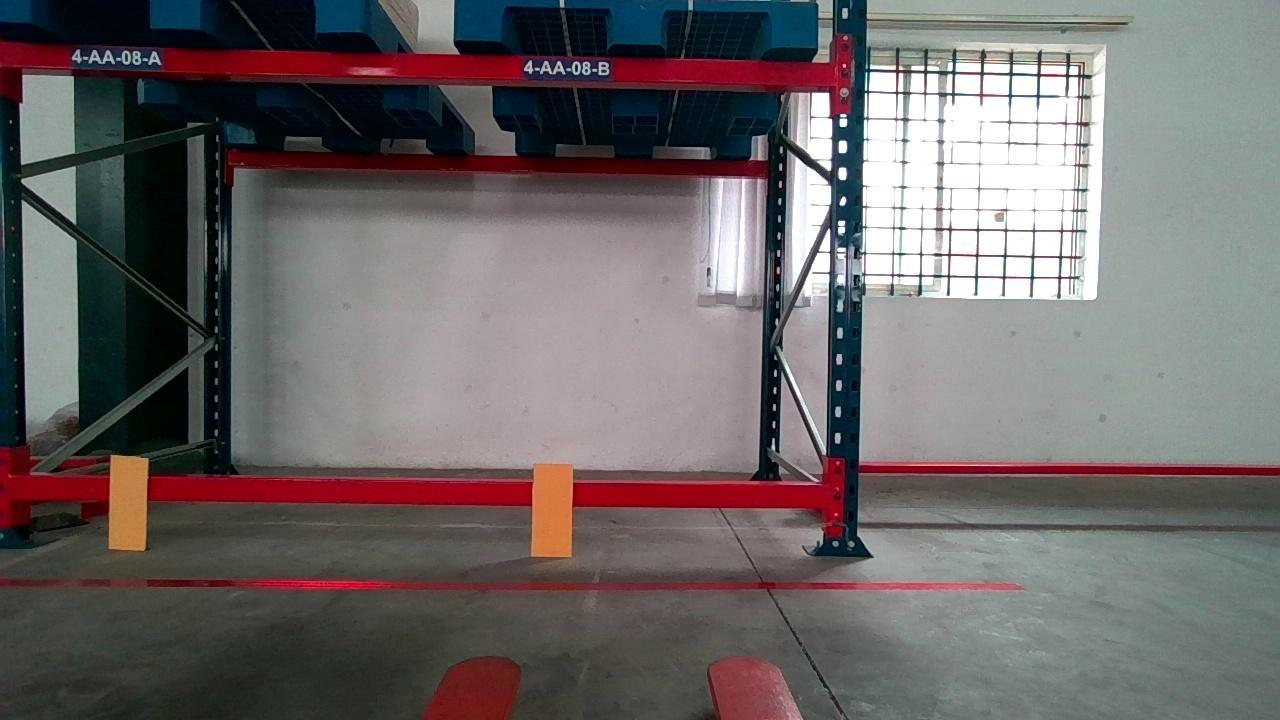h_rack: (3, 41, 831, 86), (11, 469, 828, 509)
orange_strip: (110, 455, 149, 551)
red_line: (1, 569, 1023, 590)
small_pallet: (456, 0, 818, 45)
